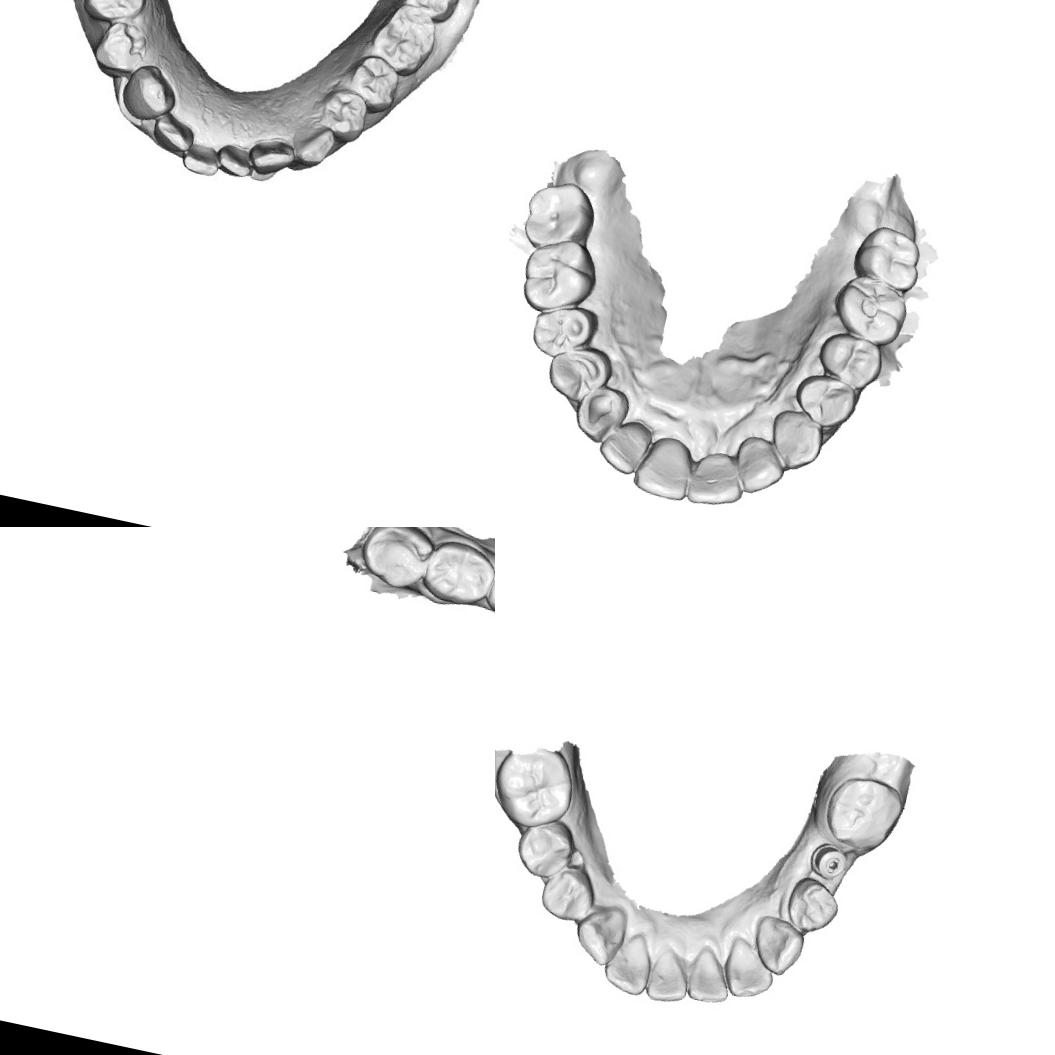canine: (762, 404, 830, 476), (568, 381, 634, 449), (570, 897, 632, 969), (747, 912, 809, 980), (116, 60, 180, 122), (289, 117, 340, 171)
implant_minus: (806, 842, 852, 883)
incisor: (629, 430, 699, 504), (684, 446, 750, 516), (592, 412, 656, 482), (718, 934, 782, 1004), (728, 431, 788, 500), (600, 926, 657, 998), (684, 942, 738, 1008), (642, 941, 696, 1006), (149, 108, 200, 156), (252, 138, 298, 180), (179, 140, 222, 179), (218, 142, 256, 180)
molar: (495, 737, 582, 836), (820, 766, 909, 857), (516, 230, 602, 320), (517, 172, 602, 258), (825, 272, 912, 350), (364, 0, 443, 82), (848, 220, 930, 292), (353, 527, 438, 596), (419, 535, 495, 612), (398, 0, 468, 26)
premolar: (539, 337, 619, 409), (524, 296, 602, 366), (810, 327, 889, 395), (786, 369, 861, 436), (510, 812, 580, 883), (536, 860, 600, 926), (782, 873, 845, 938), (90, 15, 152, 78), (344, 52, 402, 113), (312, 85, 374, 142), (78, 0, 152, 29), (482, 561, 495, 624)
